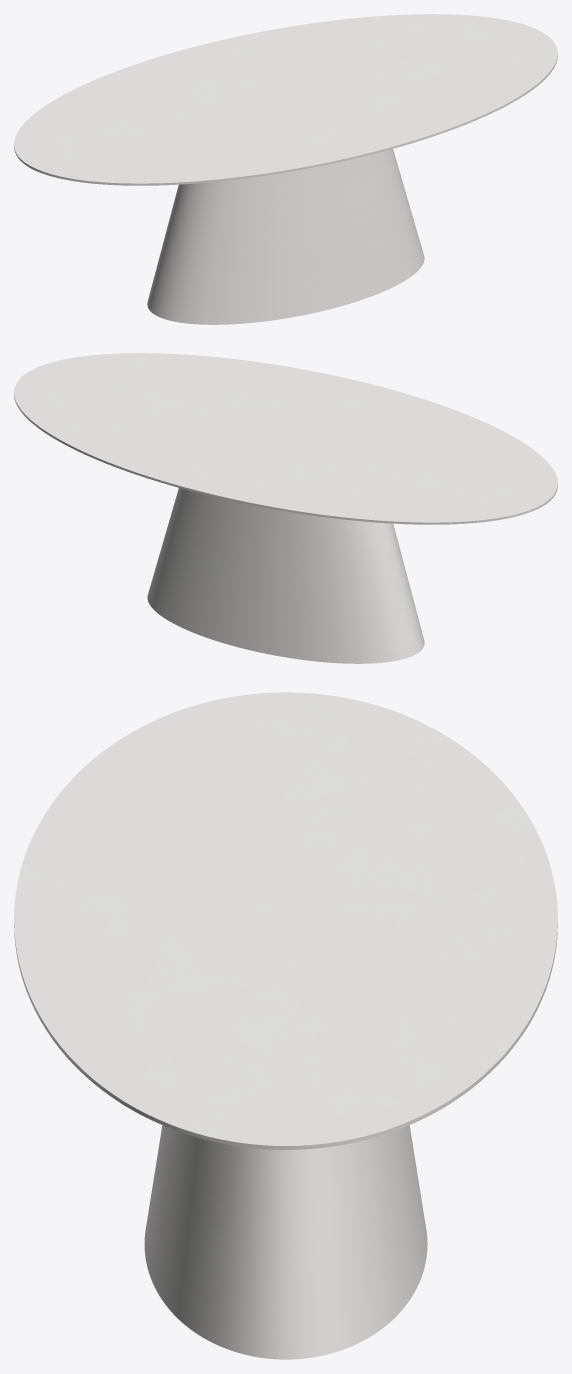
The model's file is purewhite_ellips_facet_eqone.glb.
The picture shows the model from 3 angles, top to bottom: view 1: azimuth 30°, elevation 25°; view 2: azimuth 150°, elevation 25°; view 3: azimuth 270°, elevation 25°; orthographic projection. The views are drawn at different scales.
Visible parts, largest first — view 1: facet_ellips, eqone; view 2: facet_ellips, eqone; view 3: facet_ellips, eqone.
Boxes of the visible parts, x1,y1,x2,y2 form: facet_ellips: [14, 14, 557, 185]; eqone: [147, 149, 424, 324]; facet_ellips: [14, 353, 557, 524]; eqone: [147, 488, 424, 663]; facet_ellips: [14, 692, 557, 1149]; eqone: [144, 1125, 427, 1359].
Bounding box in the file's own units: 7.5 × 2.51 × 3.8.
1 material, 1 textured.
